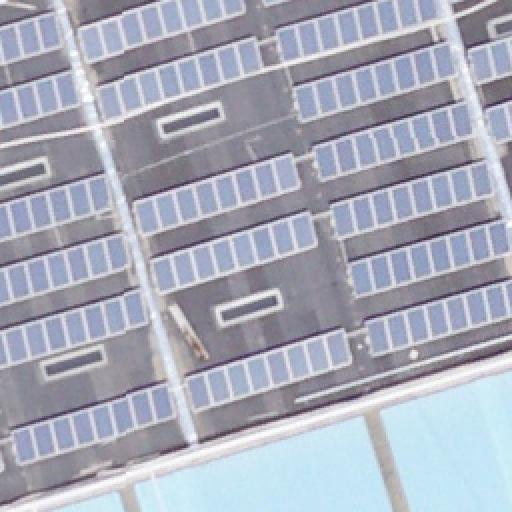solar-panel: (185, 326, 359, 414), (10, 380, 182, 468), (133, 153, 307, 239), (93, 37, 267, 123), (149, 210, 323, 294), (330, 159, 498, 241), (310, 99, 474, 181), (345, 220, 511, 300), (293, 45, 459, 123), (0, 288, 152, 372), (77, 0, 251, 68), (361, 281, 511, 359), (272, 0, 440, 64), (1, 229, 135, 307), (0, 173, 116, 243), (0, 70, 80, 130), (0, 10, 64, 66), (465, 34, 511, 86), (481, 96, 511, 144), (0, 446, 8, 474), (267, 0, 293, 8)
